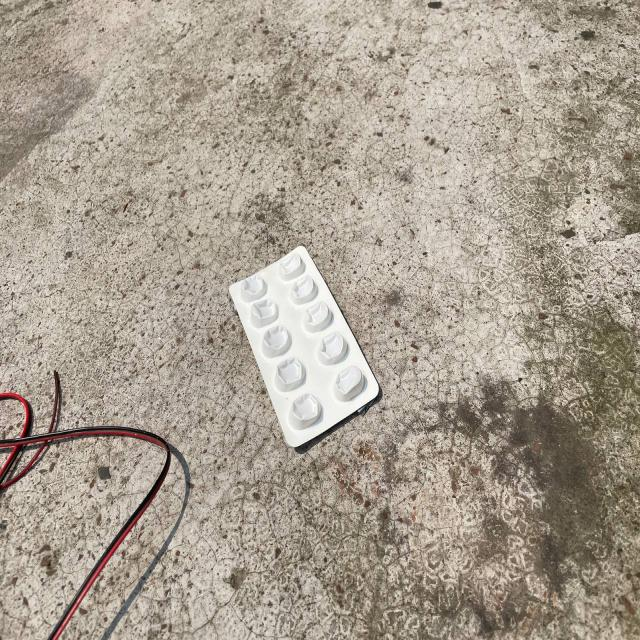Cable: (8, 358, 172, 629)
Medical Waste: (223, 247, 388, 481)
